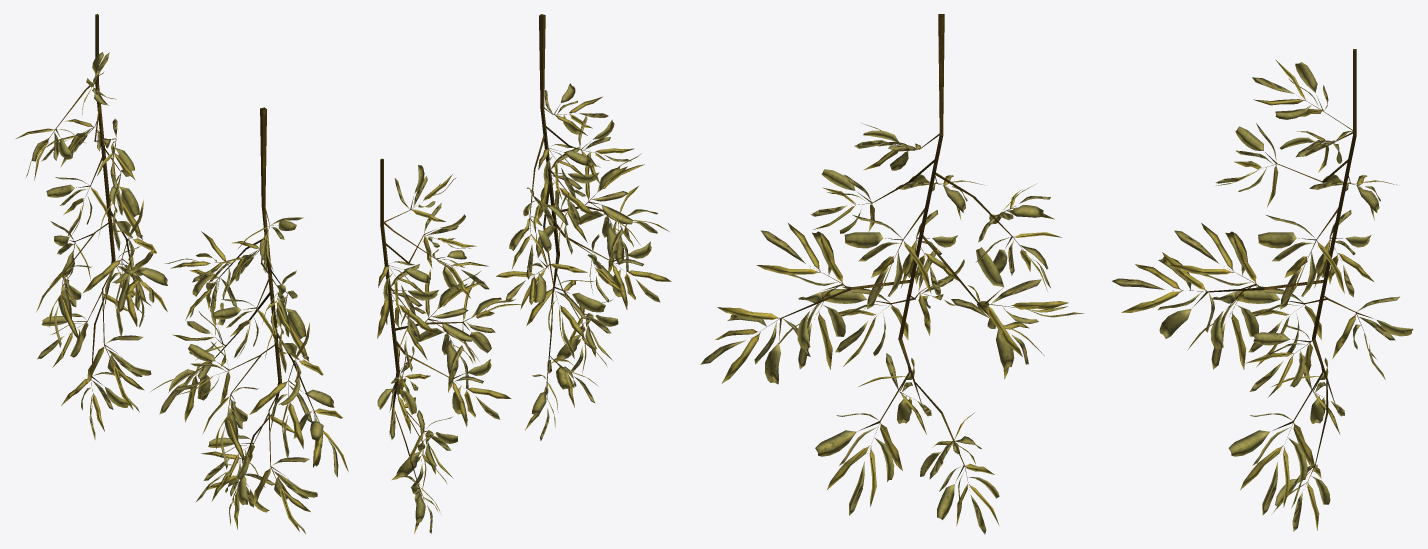
Rendered from branch.fbx.
3 views of the same model, side by side, from view 1: azimuth 30°, elevation 25°; view 2: azimuth 150°, elevation 25°; view 3: azimuth 270°, elevation 25° (orthographic). The views are drawn at different scales.
Visible parts, largest first — view 1: branch; view 2: branch; view 3: branch.
Boxes of the visible parts, x1=… form: branch: x1=16, y1=14, x2=348, y2=533; branch: x1=377, y1=14, x2=671, y2=533; branch: x1=700, y1=14, x2=1413, y2=534.
Size of the model in its own units: 0.1942 by 0.7004 by 0.85.
